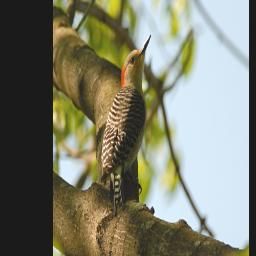Woodpecker: (101, 34, 152, 216)
